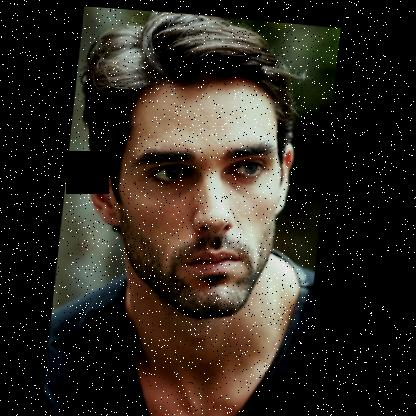Male: (78, 62, 303, 317)
